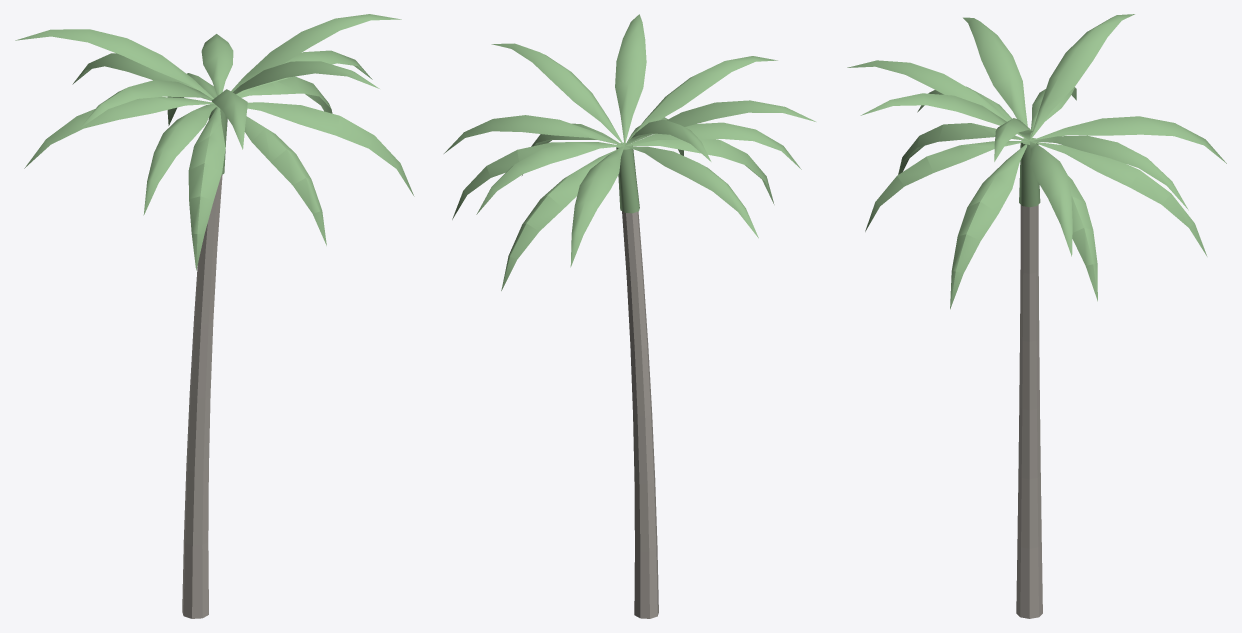
File: tree-palm-a.glb
3 views of the same model, side by side, from view 1: azimuth 30°, elevation 25°; view 2: azimuth 150°, elevation 25°; view 3: azimuth 270°, elevation 25° (orthographic). The views are drawn at different scales.
Visible parts, largest first — view 1: tree-palm-a; view 2: tree-palm-a; view 3: tree-palm-a.
Boxes of the visible parts, <box> form: tree-palm-a: <box>15,14,414,618</box>; tree-palm-a: <box>444,14,815,618</box>; tree-palm-a: <box>847,14,1226,618</box>.
Bounding box in the file's own units: 0.6383 × 1 × 0.6259.
